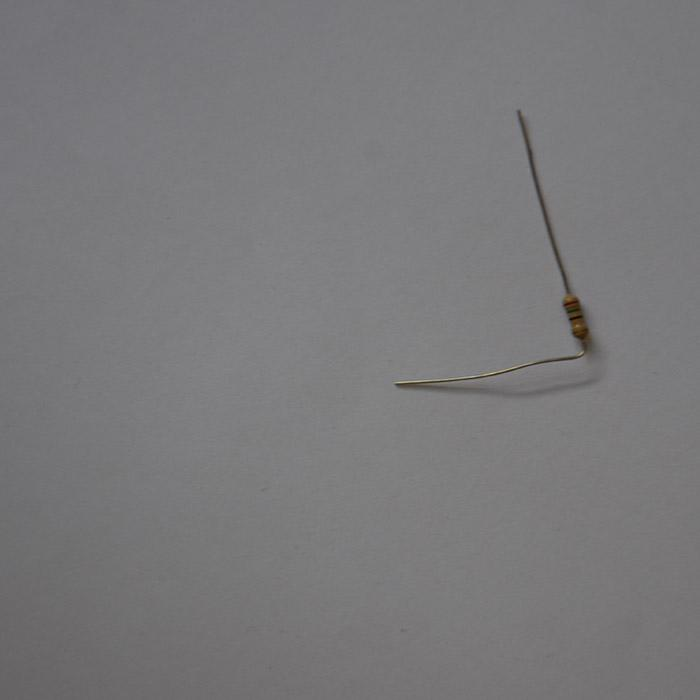resistor: (561, 294, 587, 340)
